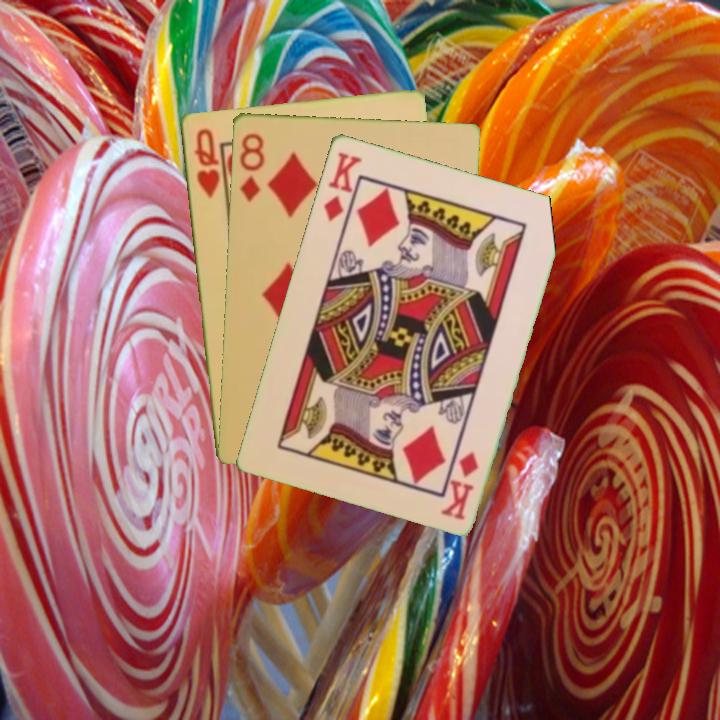8d: (235, 129, 267, 204)
Kd: (319, 148, 364, 224), (438, 447, 481, 523)
Qh: (190, 124, 222, 200)
